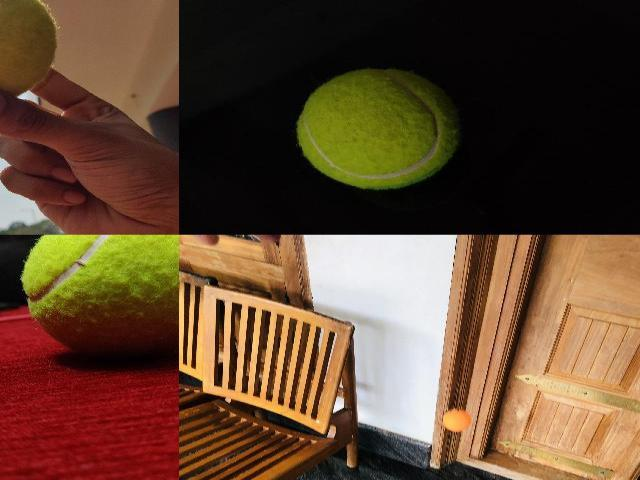tennis-ball: (296, 67, 462, 189), (18, 234, 178, 358), (0, 0, 56, 106)
